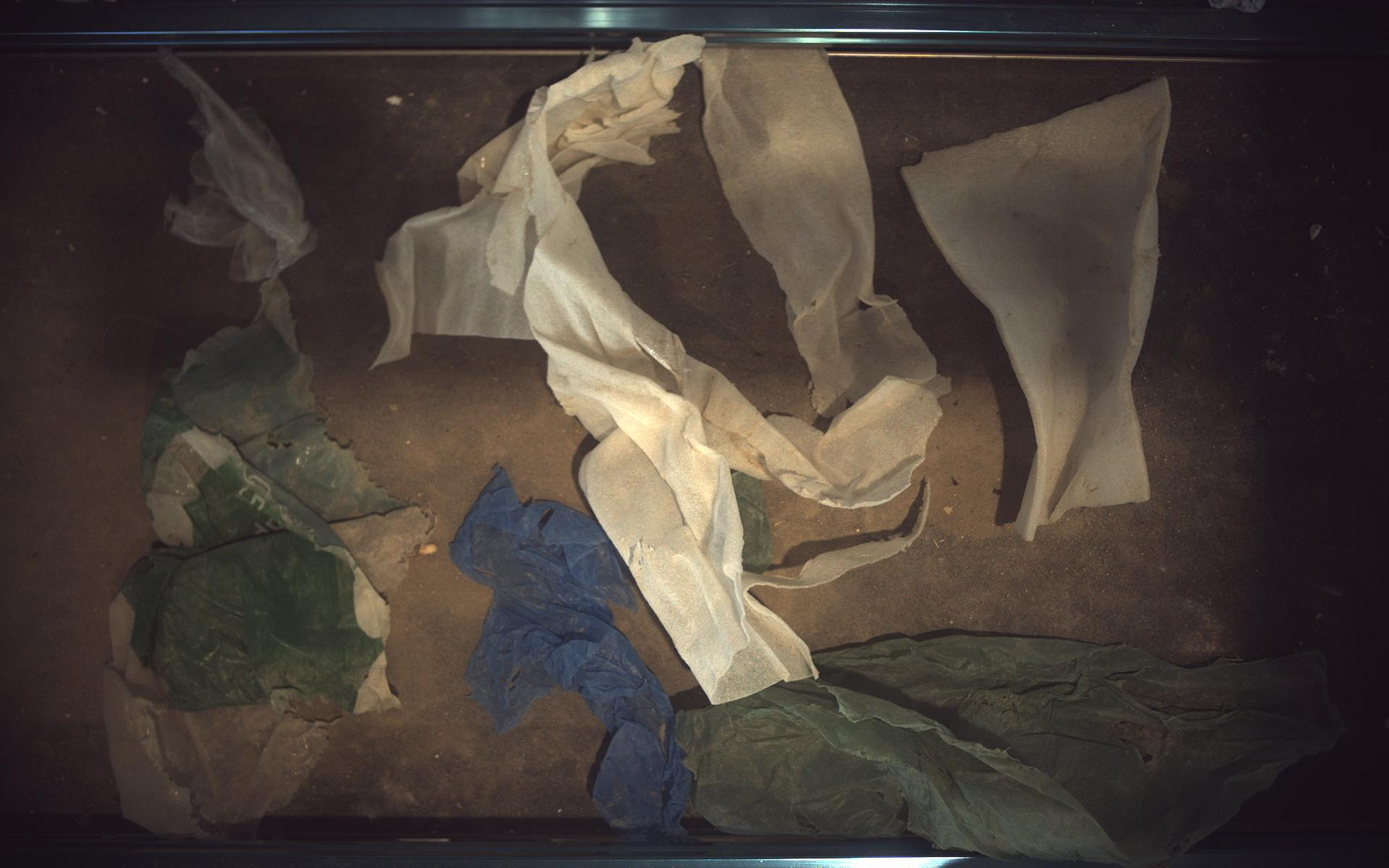general_w: (376, 34, 946, 705), (103, 275, 433, 838), (679, 634, 1344, 867), (904, 77, 1173, 541), (450, 467, 692, 838), (158, 49, 313, 281)
